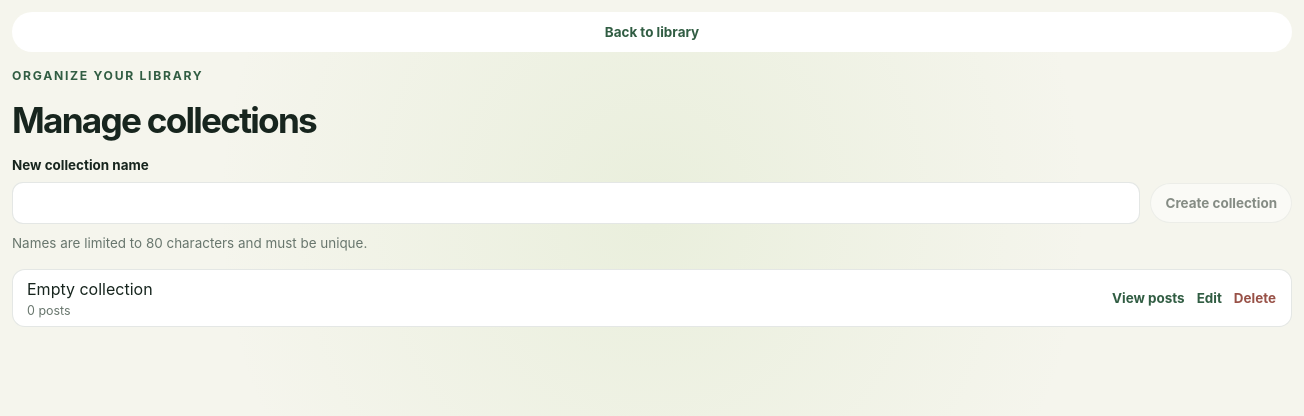
Test: collection management › shows empty collection contents and safely retries collection-load errors
Later steps or results of the test are not shown.
Click the button "View posts" at (1148, 298), box [1111, 278, 1186, 318]
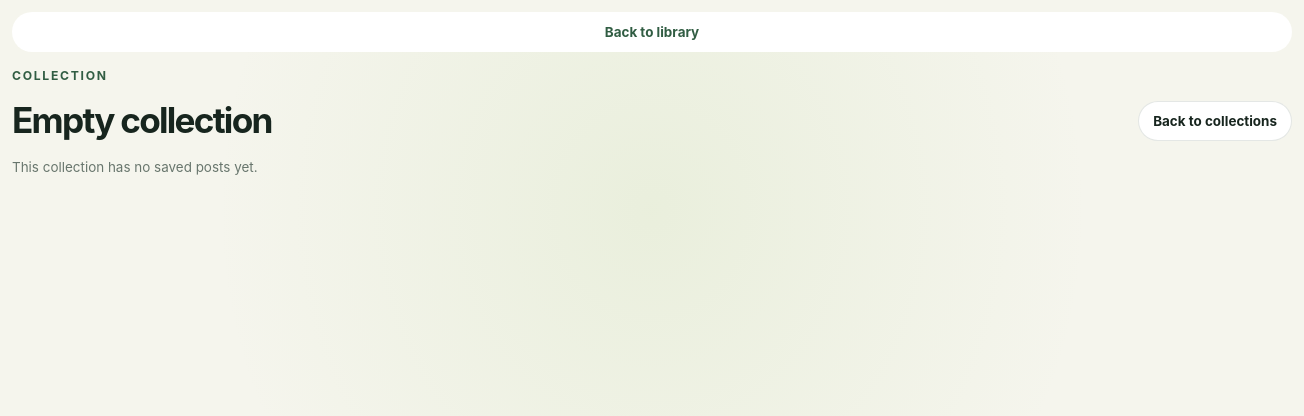
Result: the text "This collection has no saved posts yet." is shown at [12, 159, 258, 175]
